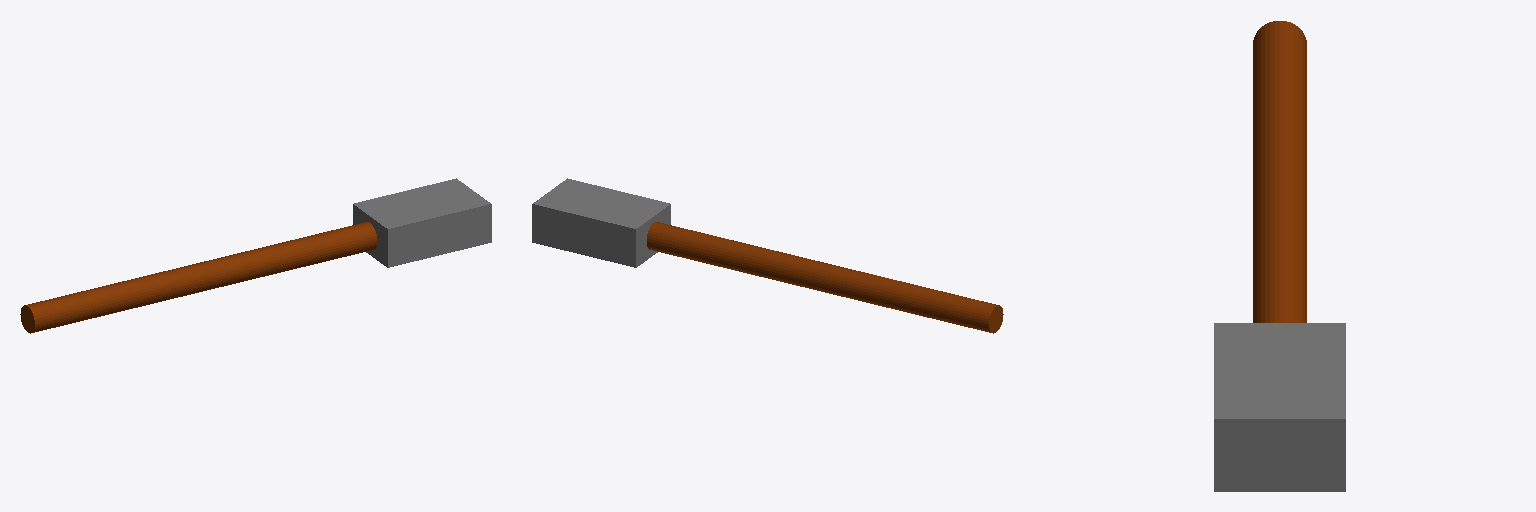
URDF robot description (handle_head):
<?xml version="1.0"?>
<robot name="handle_head">

  <link name="handle_head">
    <!-- Handle -->
    <visual>
              <origin xyz="0 0 0" rpy="0 -1.5707963267948966 0"/>
        <geometry>
          <cylinder length="0.18328516463125824" radius="0.006710294594193195"/>
        </geometry>
        
      <material name="brown">
        <color rgba="0.55 0.27 0.07 1.0"/>
      </material>
    </visual>
    <collision>
              <origin xyz="0 0 0" rpy="0 -1.5707963267948966 0"/>
        <geometry>
          <cylinder length="0.18328516463125824" radius="0.006710294594193195"/>
        </geometry>
        
    </collision>

    <!-- Head -->
    <visual>
              <origin xyz="0.11943355771164973 0 0" rpy="0 0 0"/>
        <geometry>
          <box size="0.05558195079204123 0.032381198898041405 0.01980433028065806"/>
        </geometry>
        
      <material name="gray">
        <color rgba="0.5 0.5 0.5 1.0"/>
      </material>
    </visual>
    <collision>
              <origin xyz="0.11943355771164973 0 0" rpy="0 0 0"/>
        <geometry>
          <box size="0.05558195079204123 0.032381198898041405 0.01980433028065806"/>
        </geometry>
        
    </collision>

    <inertial>
      <origin xyz="0.06443135725516087 0 0" rpy="0 0 0"/>
      <mass value="0.03180080816035526"/>
      <inertia ixx="2.3864148270343538e-06" iyy="0.00016297365317776918" izz="0.0001639119720197812" ixy="0" ixz="0" iyz="0"/>
    </inertial>
  </link>

</robot>

--- Facts derived from the render (not from the file) ---
The picture shows the robot from 3 angles, left to right: view 1: azimuth 30°, elevation 25°; view 2: azimuth 150°, elevation 25°; view 3: azimuth 270°, elevation 25°; orthographic projection.
Robot: handle_head — 1 links, 0 joints (none); root link handle_head; default pose: every joint at zero.
Links seen in each view (by area): view 1: handle_head; view 2: handle_head; view 3: handle_head.
Link boxes in pixels (box(x1,y1,x2,y2)): handle_head: box(20, 178, 491, 333); handle_head: box(532, 178, 1003, 333); handle_head: box(1214, 21, 1345, 491).
Size in the robot's own frame: 0.2389 by 0.0324 by 0.0198 metres.
Geometry: primitives only (box / cylinder / sphere), no mesh files.
